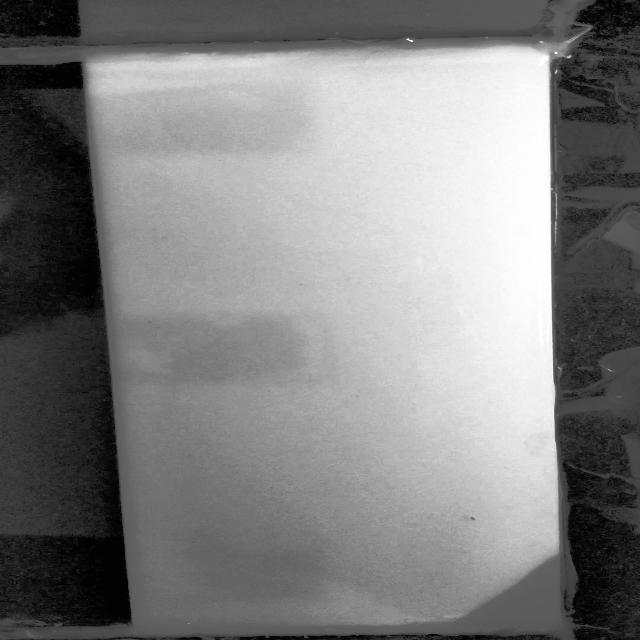shrimp: (460, 512, 486, 525)
